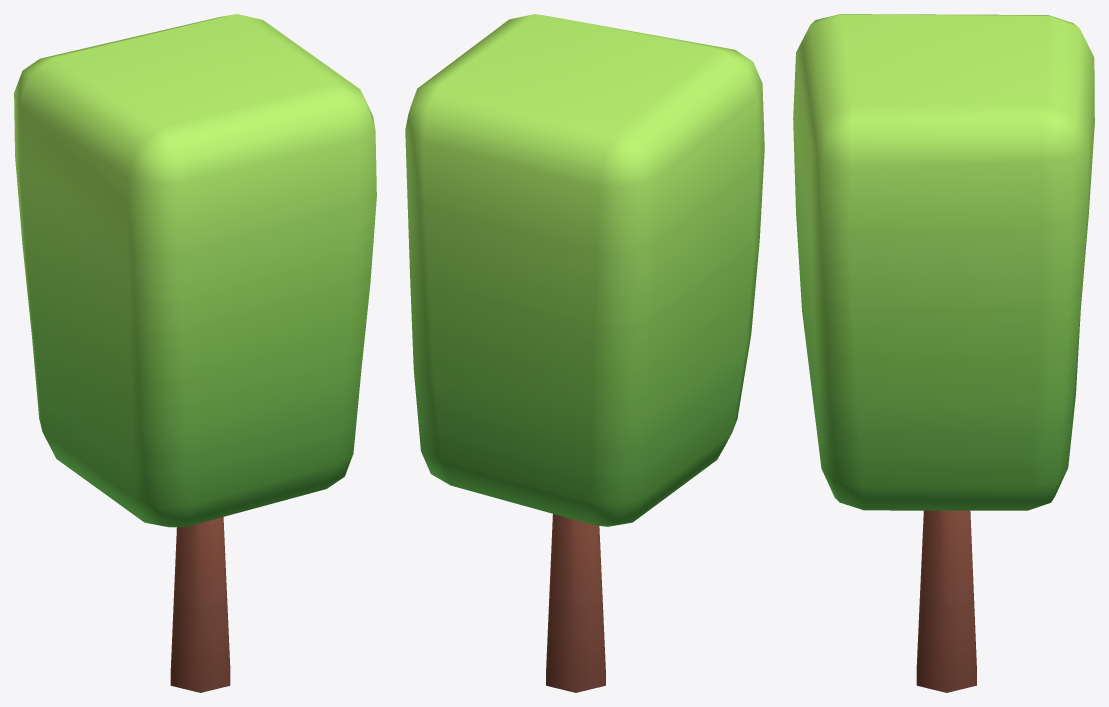
Rendered from city2-tree-01.glb.
The picture shows the model from 3 angles, left to right: view 1: azimuth 30°, elevation 25°; view 2: azimuth 150°, elevation 25°; view 3: azimuth 270°, elevation 25°; orthographic projection.
Visible parts, largest first — view 1: Tree_01; view 2: Tree_01; view 3: Tree_01.
Boxes of the visible parts, x1,y1,x2,y2 form: Tree_01: (14, 14, 376, 692); Tree_01: (405, 14, 764, 692); Tree_01: (793, 14, 1094, 692).
Bounding box in the file's own units: 2.77 × 6.3 × 2.78.
Materials: 1 (1 with a texture image).
